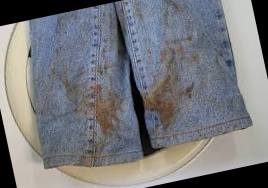earth: (145, 78, 179, 130), (88, 91, 124, 138)
